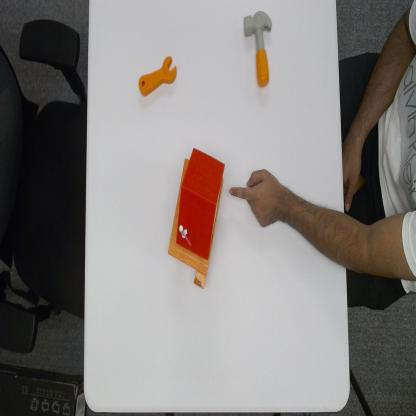Arm: (287, 187, 416, 281)
Hammer: (243, 9, 273, 90)
Hand: (228, 165, 287, 229)
House: (166, 146, 225, 291)
Screwdriver: (138, 52, 177, 98)
